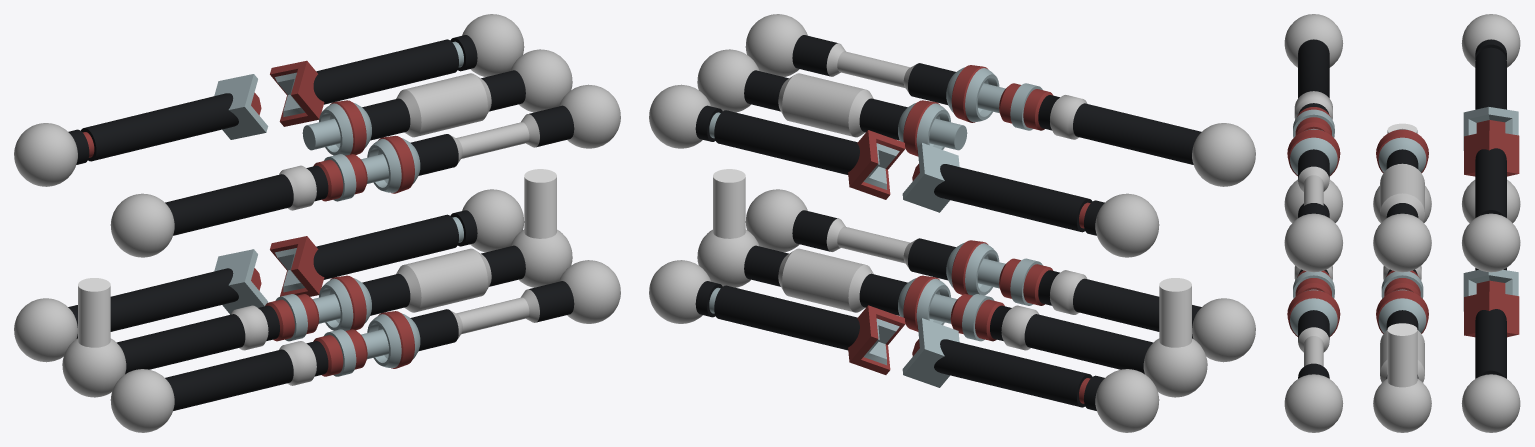
3 renders of one model, left to right at view 1: azimuth 30°, elevation 25°; view 2: azimuth 150°, elevation 25°; view 3: azimuth 270°, elevation 25°, orthographic. The views are drawn at different scales.
Parts seen in each view (by area): view 1: AT, AU, CG, T, C, A, G, U, Cylinder; view 2: CG, AT, AU, T, C, G, A, U, Cylinder; view 3: CG, AU, T, G, AT, U, C, A, Cylinder.
Part boxes in pixels (x1,y1,x2,y2): AT: (62,229,572,397); AU: (110,260,620,432); CG: (14,189,524,362); T: (302,49,572,155); C: (14,74,268,186); A: (110,154,367,257); G: (270,14,524,126); U: (361,84,620,193); Cylinder: (78,169,556,347); CG: (649,260,1159,432); AT: (697,229,1207,397); AU: (745,189,1255,362); T: (697,49,967,156); C: (902,143,1159,257); G: (649,84,905,199); A: (999,83,1255,186); U: (745,14,1005,122); Cylinder: (713,169,1191,347); CG: (1461,179,1520,432); AU: (1284,179,1343,432); T: (1373,128,1431,272); G: (1462,130,1520,272); AT: (1373,186,1431,432); U: (1284,128,1342,272); C: (1461,14,1520,150); A: (1284,14,1343,137); Cylinder: (1387,123,1417,387).
Size of the model in its own units: 1198 by 544 by 532.
